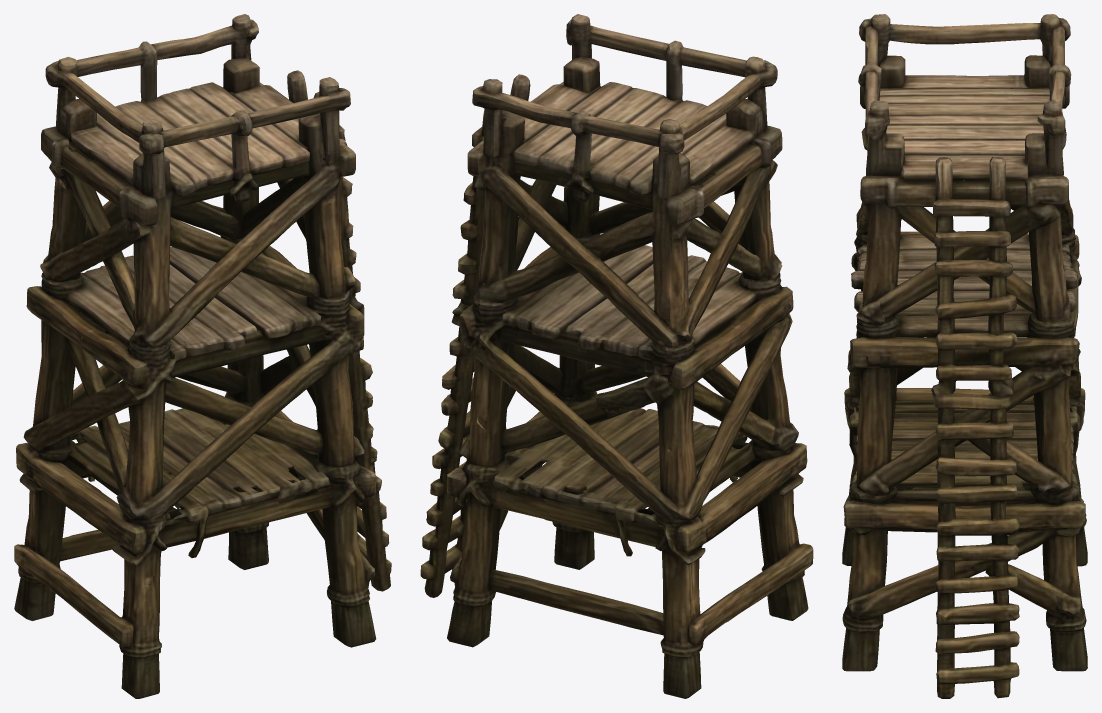
Rendered from env_scaffold.glb.
3 views of the same model, side by side, from view 1: azimuth 30°, elevation 25°; view 2: azimuth 150°, elevation 25°; view 3: azimuth 270°, elevation 25° (orthographic).
Visible parts, largest first — view 1: world; view 2: world; view 3: world.
Boxes of the visible parts, x1,y1,x2,y2 form: world: (14, 14, 391, 698); world: (420, 14, 813, 698); world: (842, 14, 1087, 698).
Size of the model in its own units: 2.65 by 4.5 by 1.8.
Materials: 1 (1 with a texture image).
